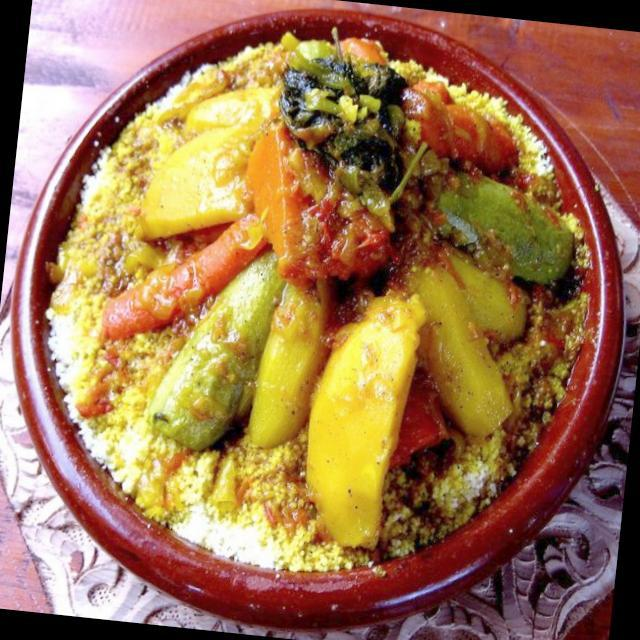Couscous: (22, 0, 628, 601)
